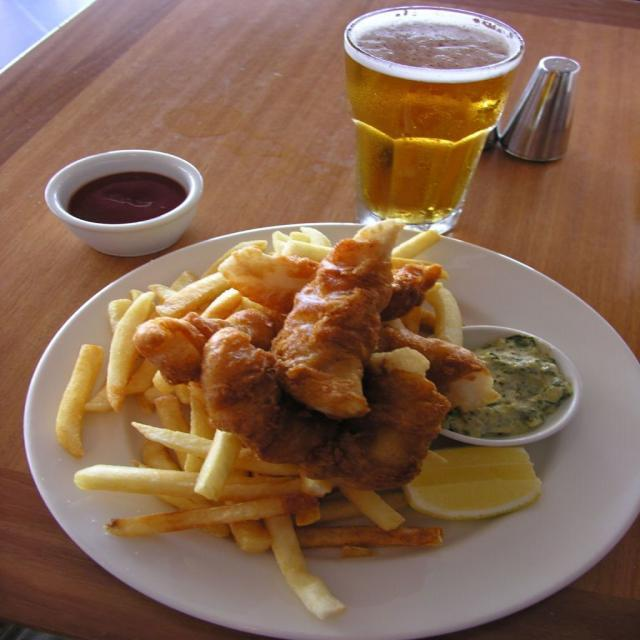Juice: (343, 10, 521, 226)
